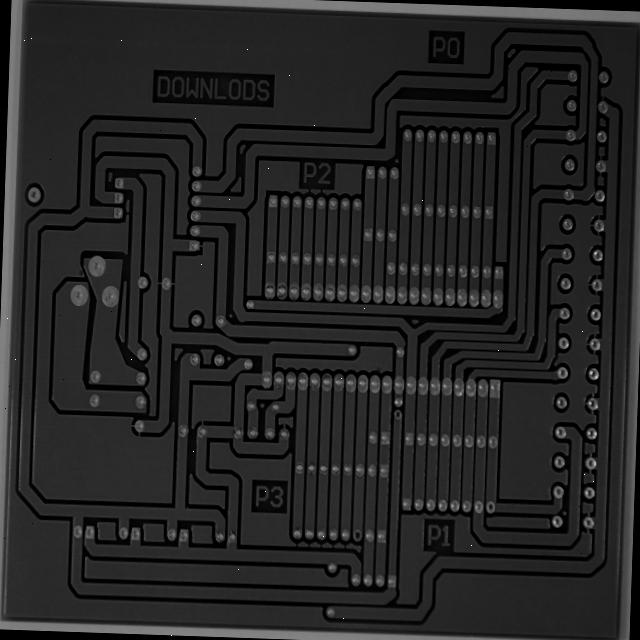missing_hole: (326, 510, 340, 530), (471, 477, 484, 497), (371, 373, 383, 392)
